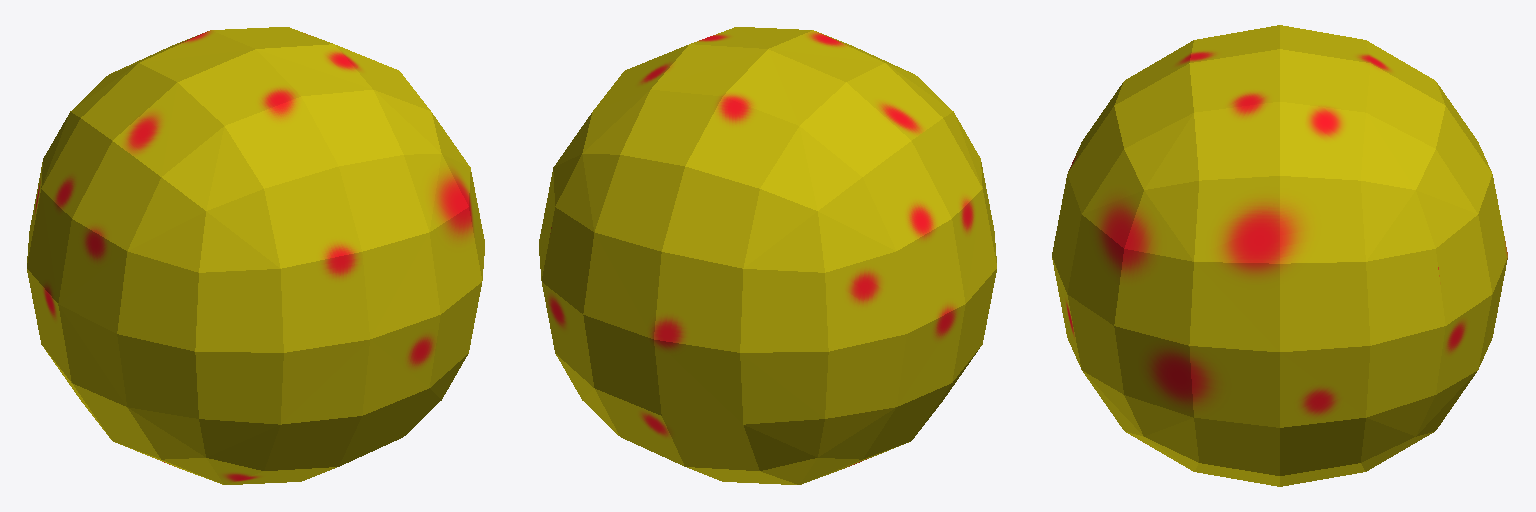
The picture shows the model from 3 angles: view 1: azimuth 30°, elevation 25°; view 2: azimuth 150°, elevation 25°; view 3: azimuth 270°, elevation 25°; orthographic projection.
Parts seen in each view (by area): view 1: Cube; view 2: Cube; view 3: Cube.
Part boxes in pixels (bbox=[...]): Cube: bbox=[27, 27, 484, 484]; Cube: bbox=[539, 27, 996, 484]; Cube: bbox=[1052, 25, 1507, 486].
Size of the model in its own units: 8.91 by 8.91 by 8.91.
1 materials, 1 textured.